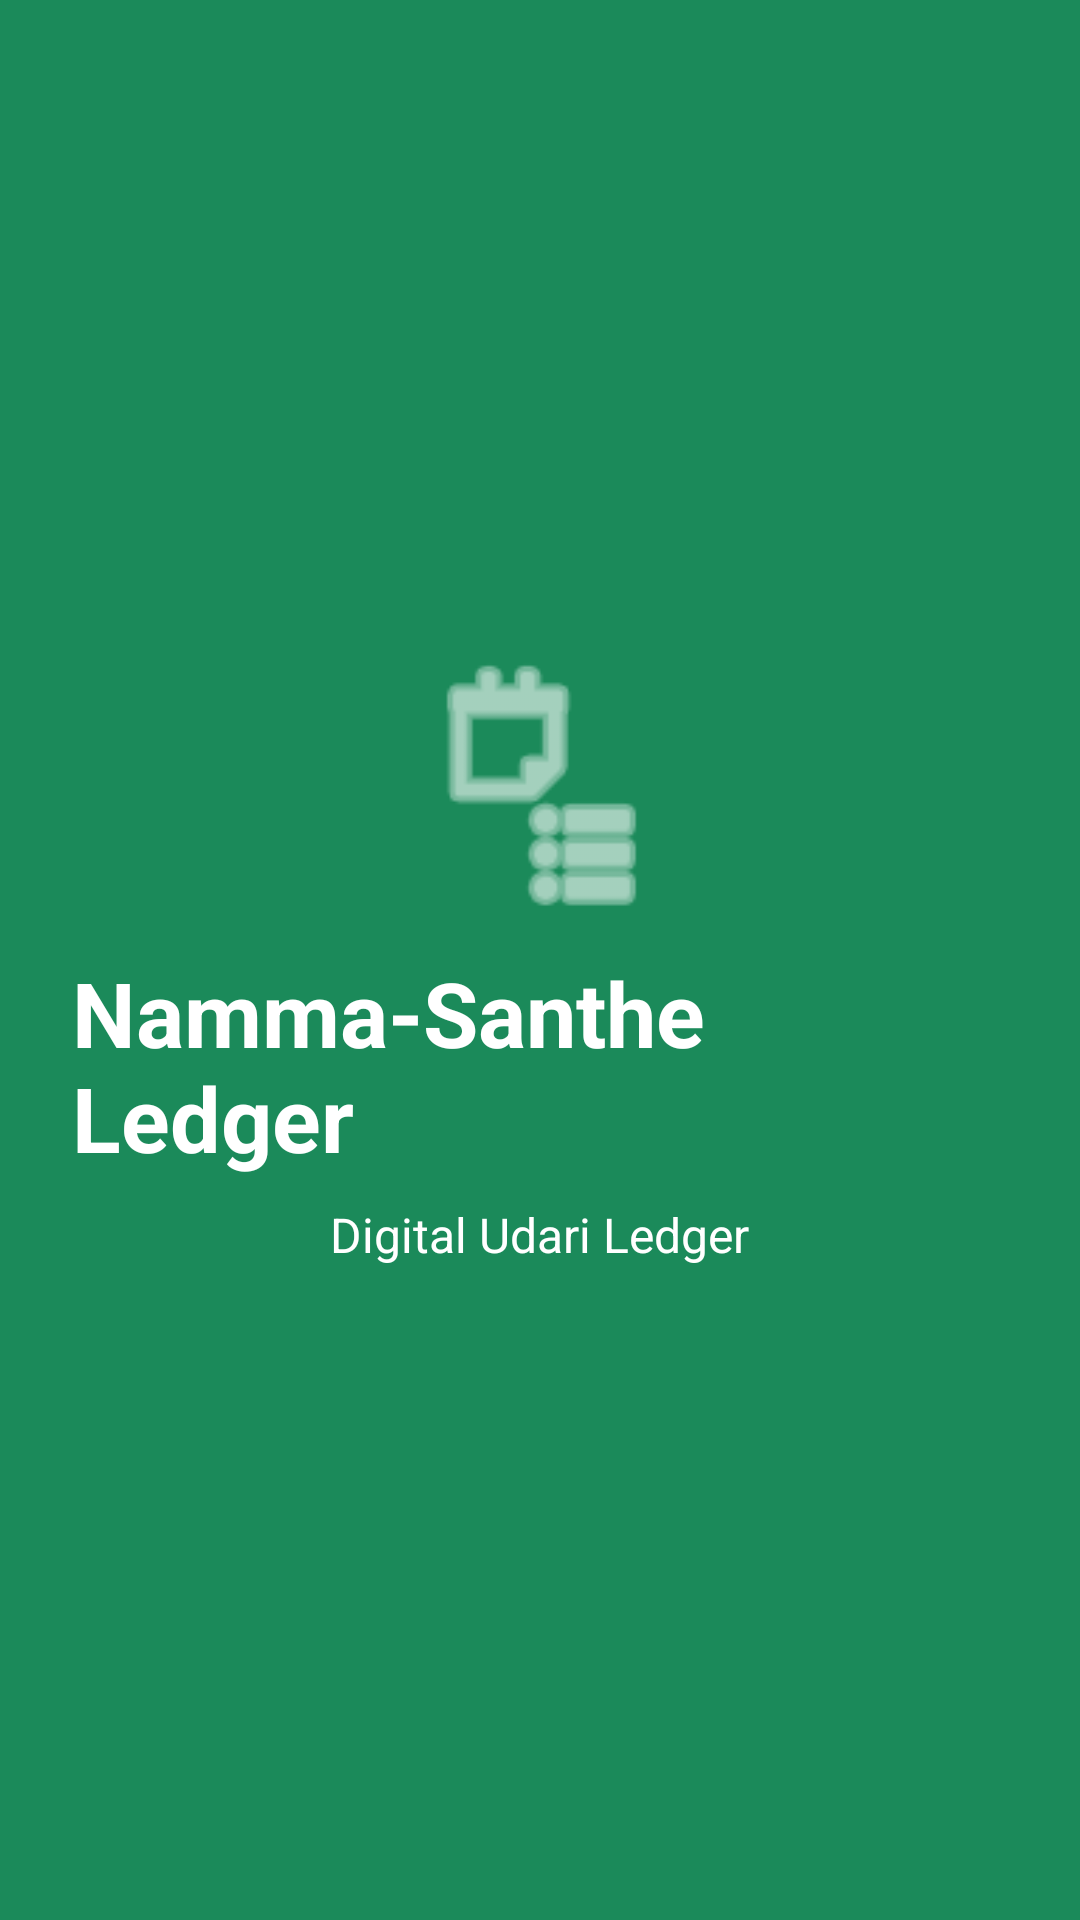

Named icons in this screenshot (1080px×1920px) and their centers, [x,y]:
agenda: [541,785]
